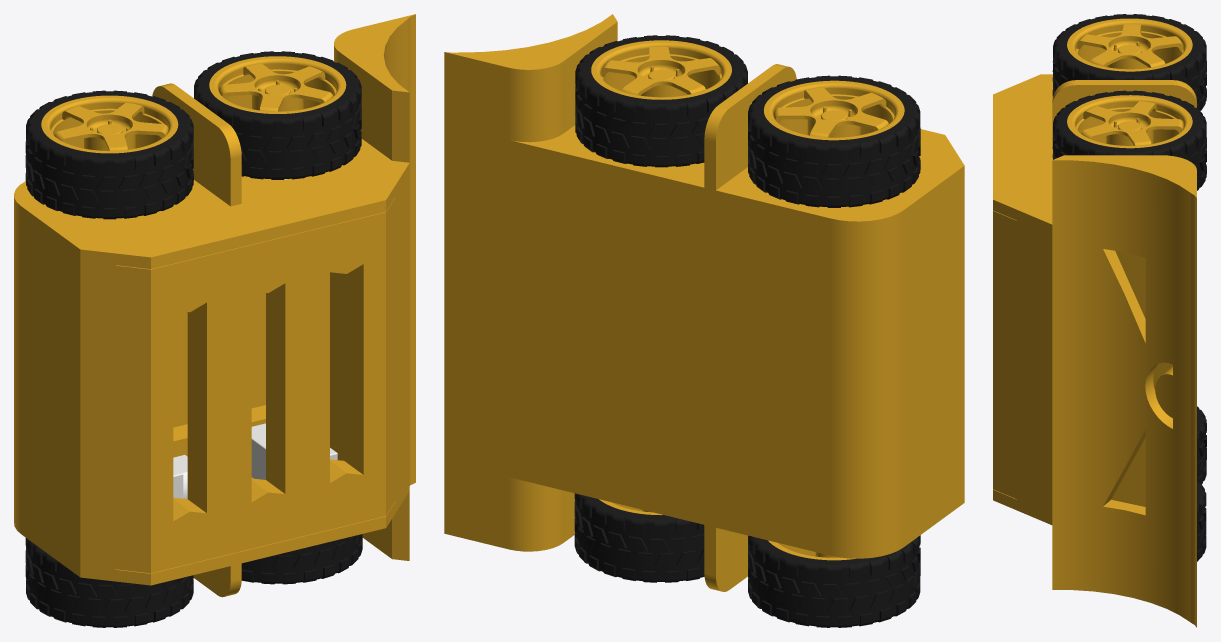
The model's file is Main Model.fbx.
3 views of the same model, side by side, from view 1: azimuth 30°, elevation 25°; view 2: azimuth 150°, elevation 25°; view 3: azimuth 270°, elevation 25° (orthographic). The views are drawn at different scales.
Parts seen in each view (by area): view 1: Body1 (×3), Body9, Body3 (×4), Body2 (×2); view 2: Body9, Body3 (×4), Body1 (×2); view 3: Body9, Body1 (×3), Body3 (×4).
Boxes of the visible parts, x1,y1,x2,y2 form: Body1 (×3): (41,56,395,573); Body9: (14,14,415,597); Body3 (×4): (25,51,362,627); Body2 (×2): (173,423,337,498); Body9: (444,14,964,591); Body3 (×4): (574,35,920,627); Body1 (×2): (591,40,904,140); Body9: (993,74,1196,627); Body1 (×3): (993,18,1192,498); Body3 (×4): (1052,14,1206,561).
Bounding box in the file's own units: 188 × 200 × 90.19.
